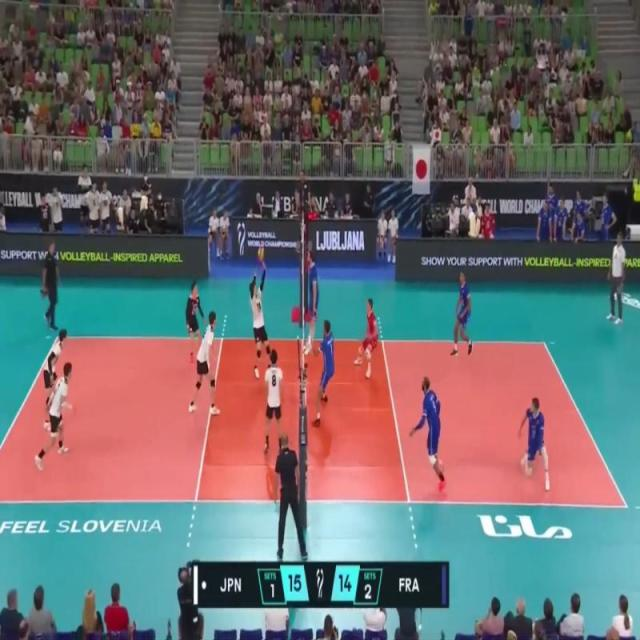volleyball: (256, 247, 266, 261)
